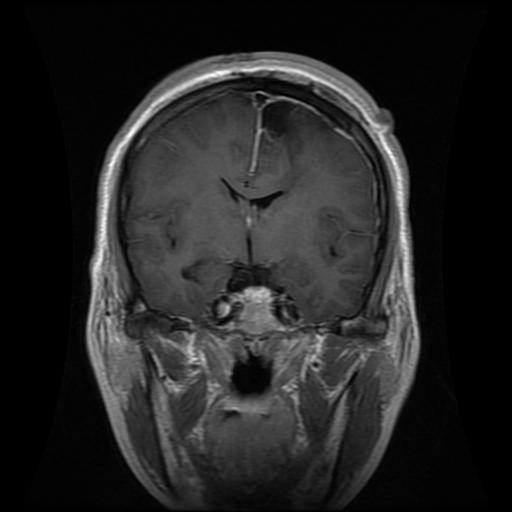Gliomia_tumour: (256, 96, 303, 153)
